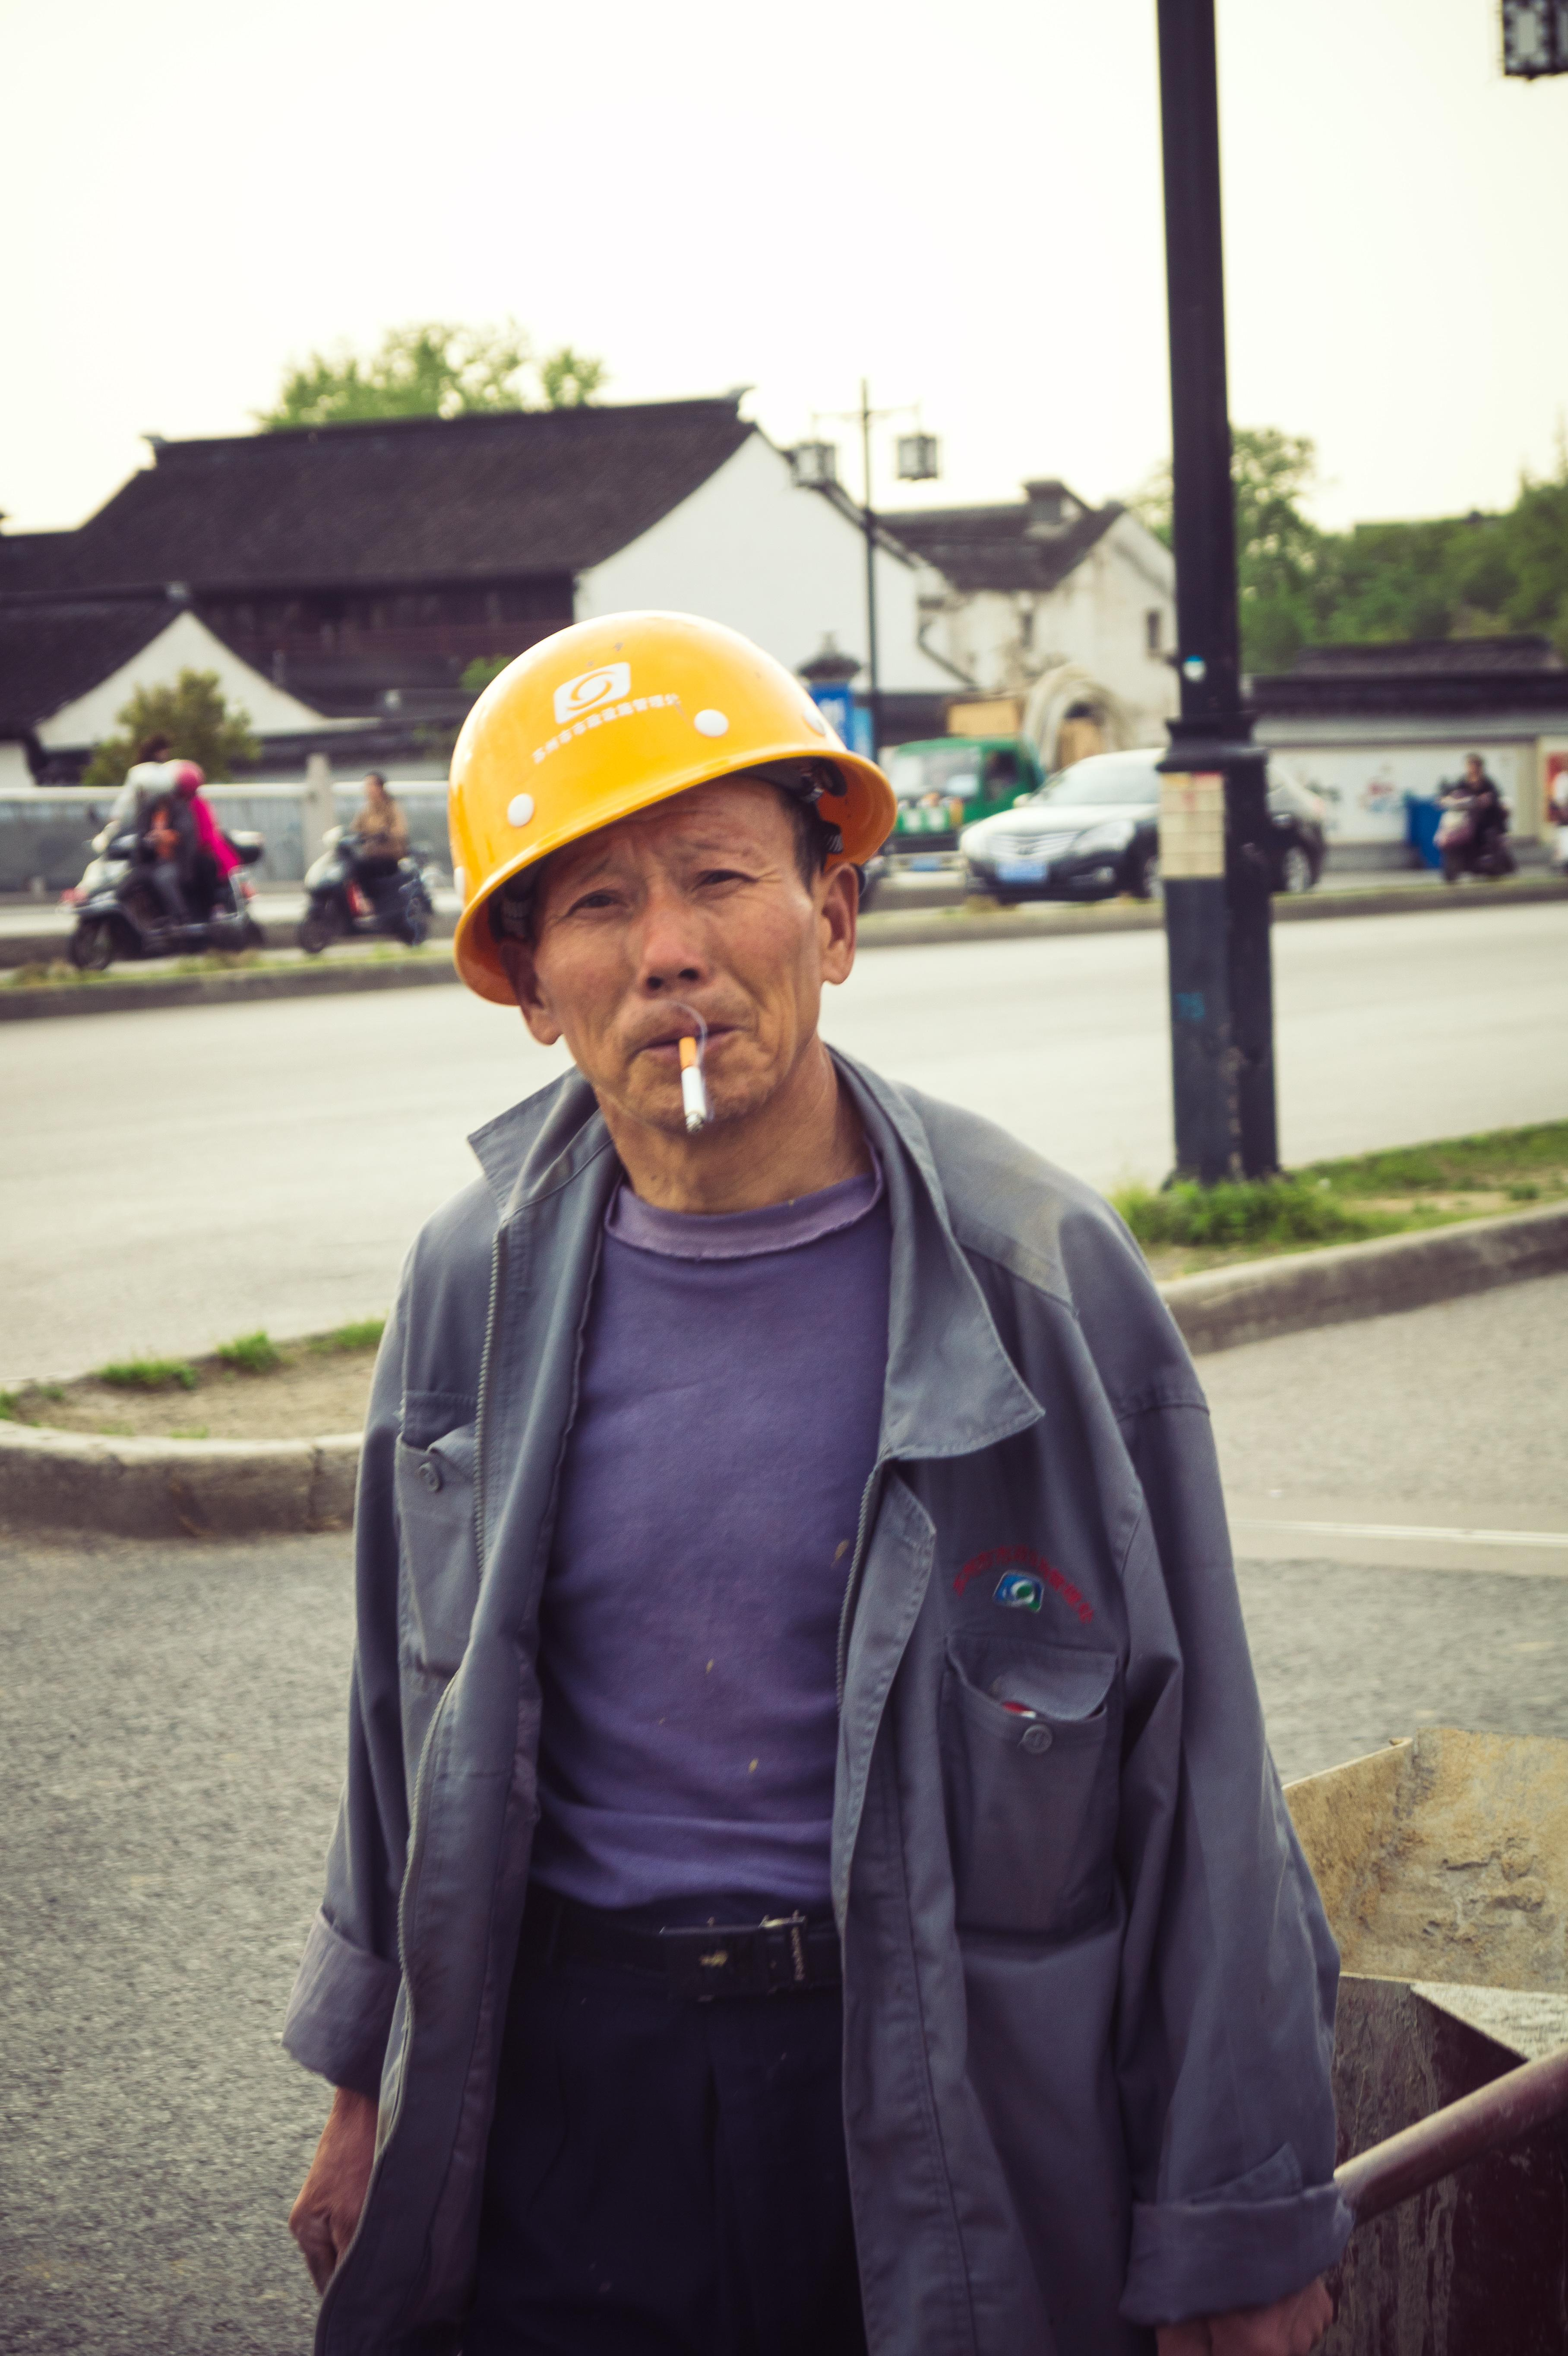cigarette: (677, 1034, 705, 1134)
